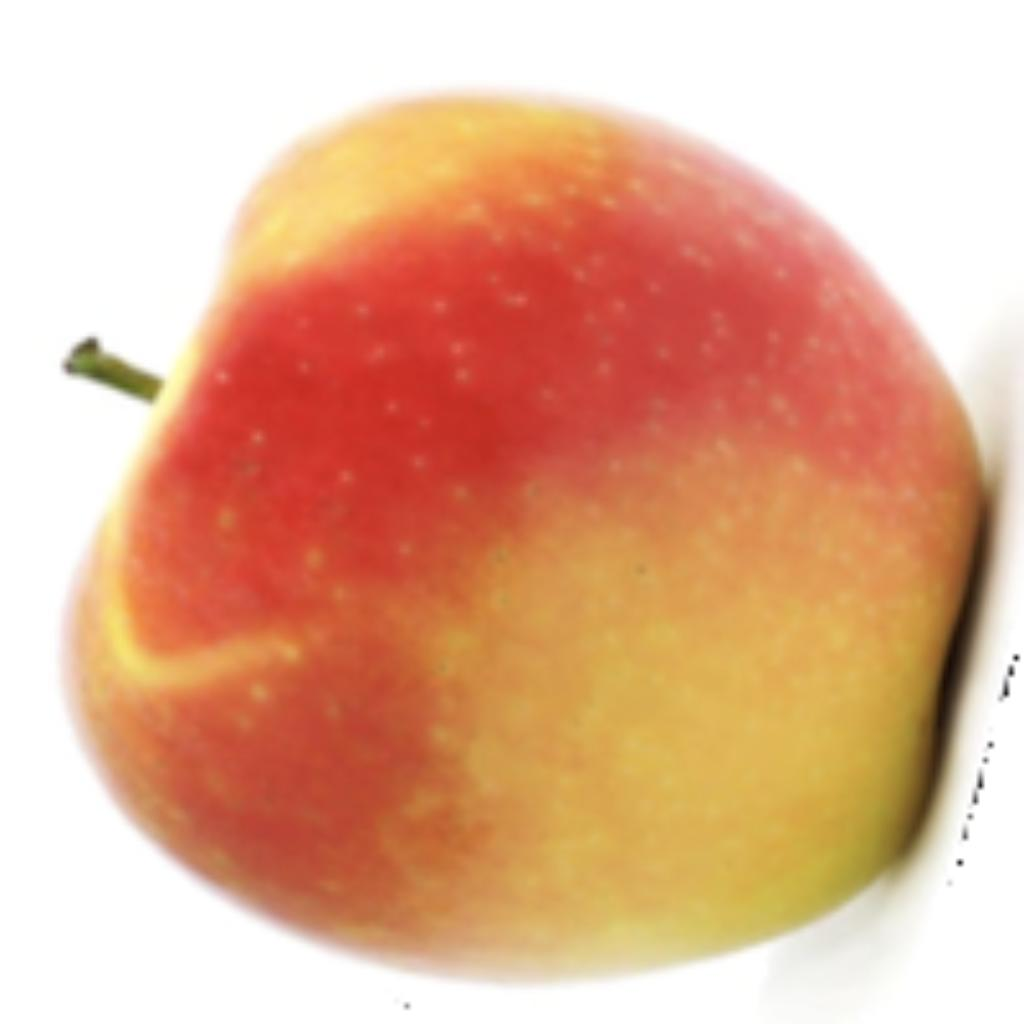apple: (51, 77, 1019, 1001)
